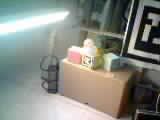duck: (70, 28, 104, 64)
